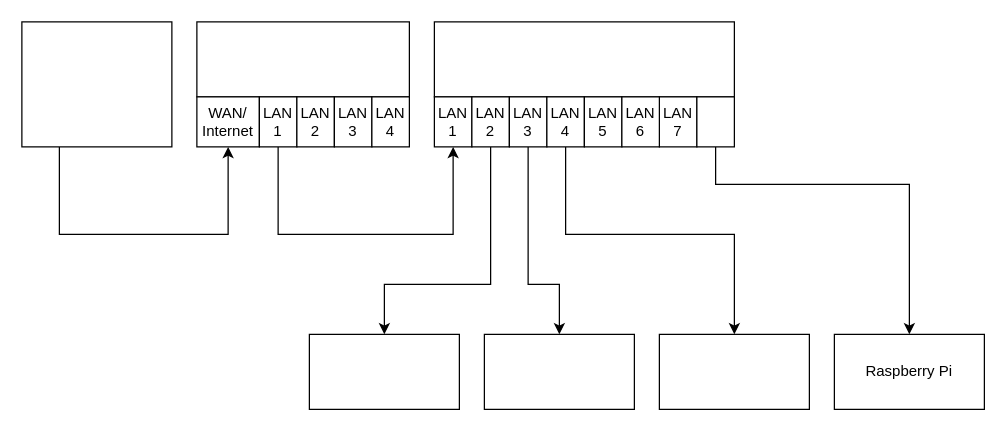
The diagram is 1006 pixels wide and 431 high, and some of its shapes have lost their labels. Each missing label, with the centre of its shape:
"Internet Connection" belongs at (x=96, y=84).
"LAN 8" belongs at (x=715, y=121).
"PC 1" belongs at (x=383, y=371).
"Router" belongs at (x=302, y=59).
"Server 1" belongs at (x=558, y=371).
"Server 2" belongs at (x=733, y=371).
"Switch" belongs at (x=583, y=59).
